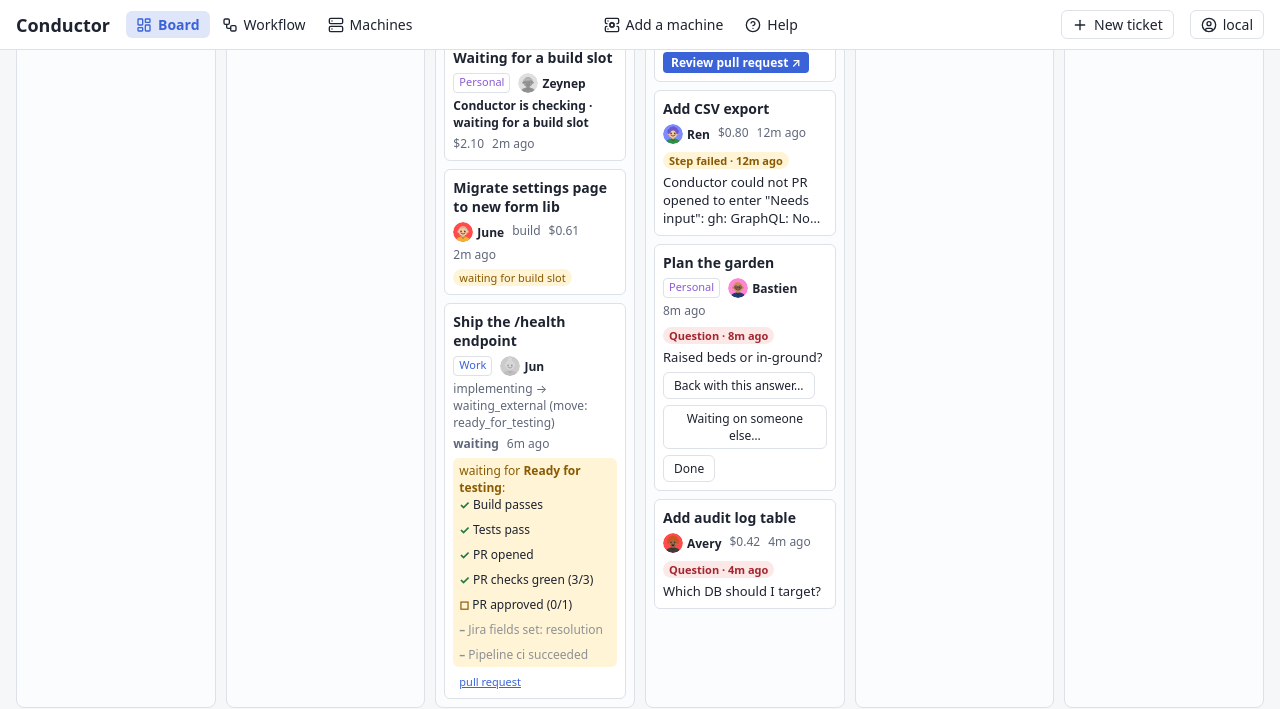
Test case: phone detail panel (11-web-ui §Detail panel) › on desktop it keeps Close detail and no Back
(page scrolled)
Expected: the button "local" is shown, [1190,10,1264,39]
Click the button "Add audit log table".
click(745, 518)  # box [663,508,827,527]
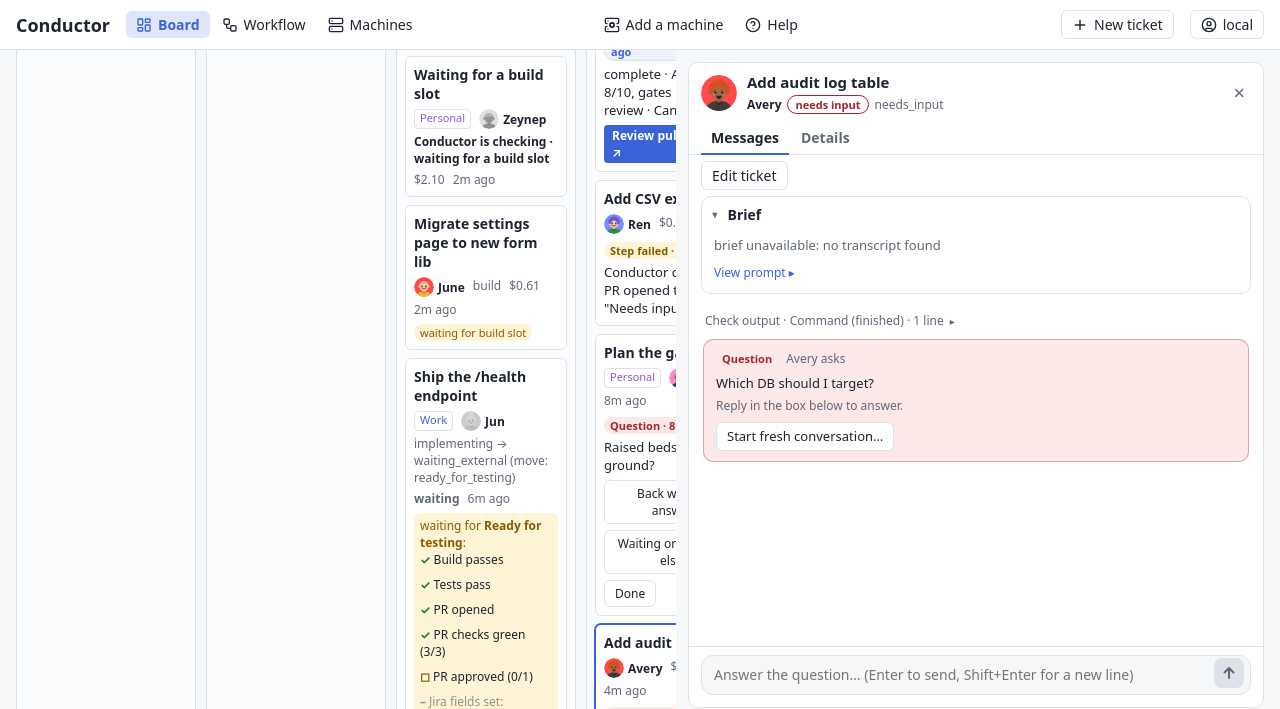
Expected: the button named "Close detail" is shown, [1228,81,1251,105]
